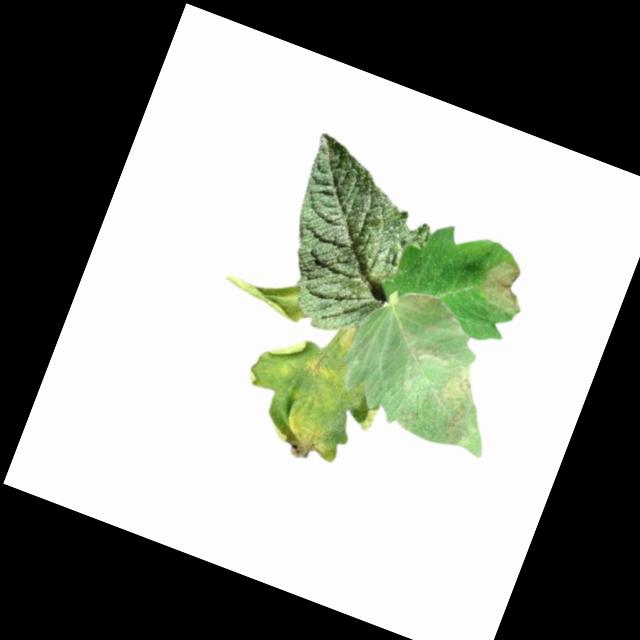Late_blight: (216, 260, 313, 325), (424, 360, 492, 450), (392, 284, 477, 342), (268, 406, 332, 465), (476, 255, 534, 316), (304, 350, 334, 382), (395, 402, 421, 434), (336, 321, 360, 355)
